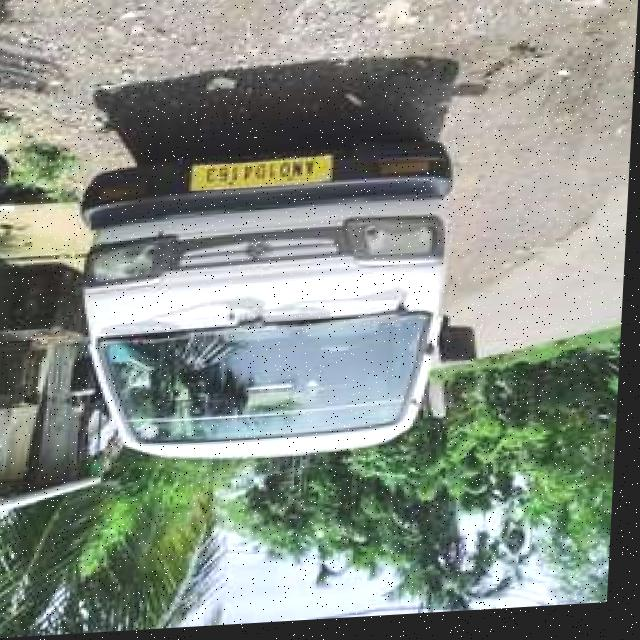plate: (191, 158, 336, 197)
